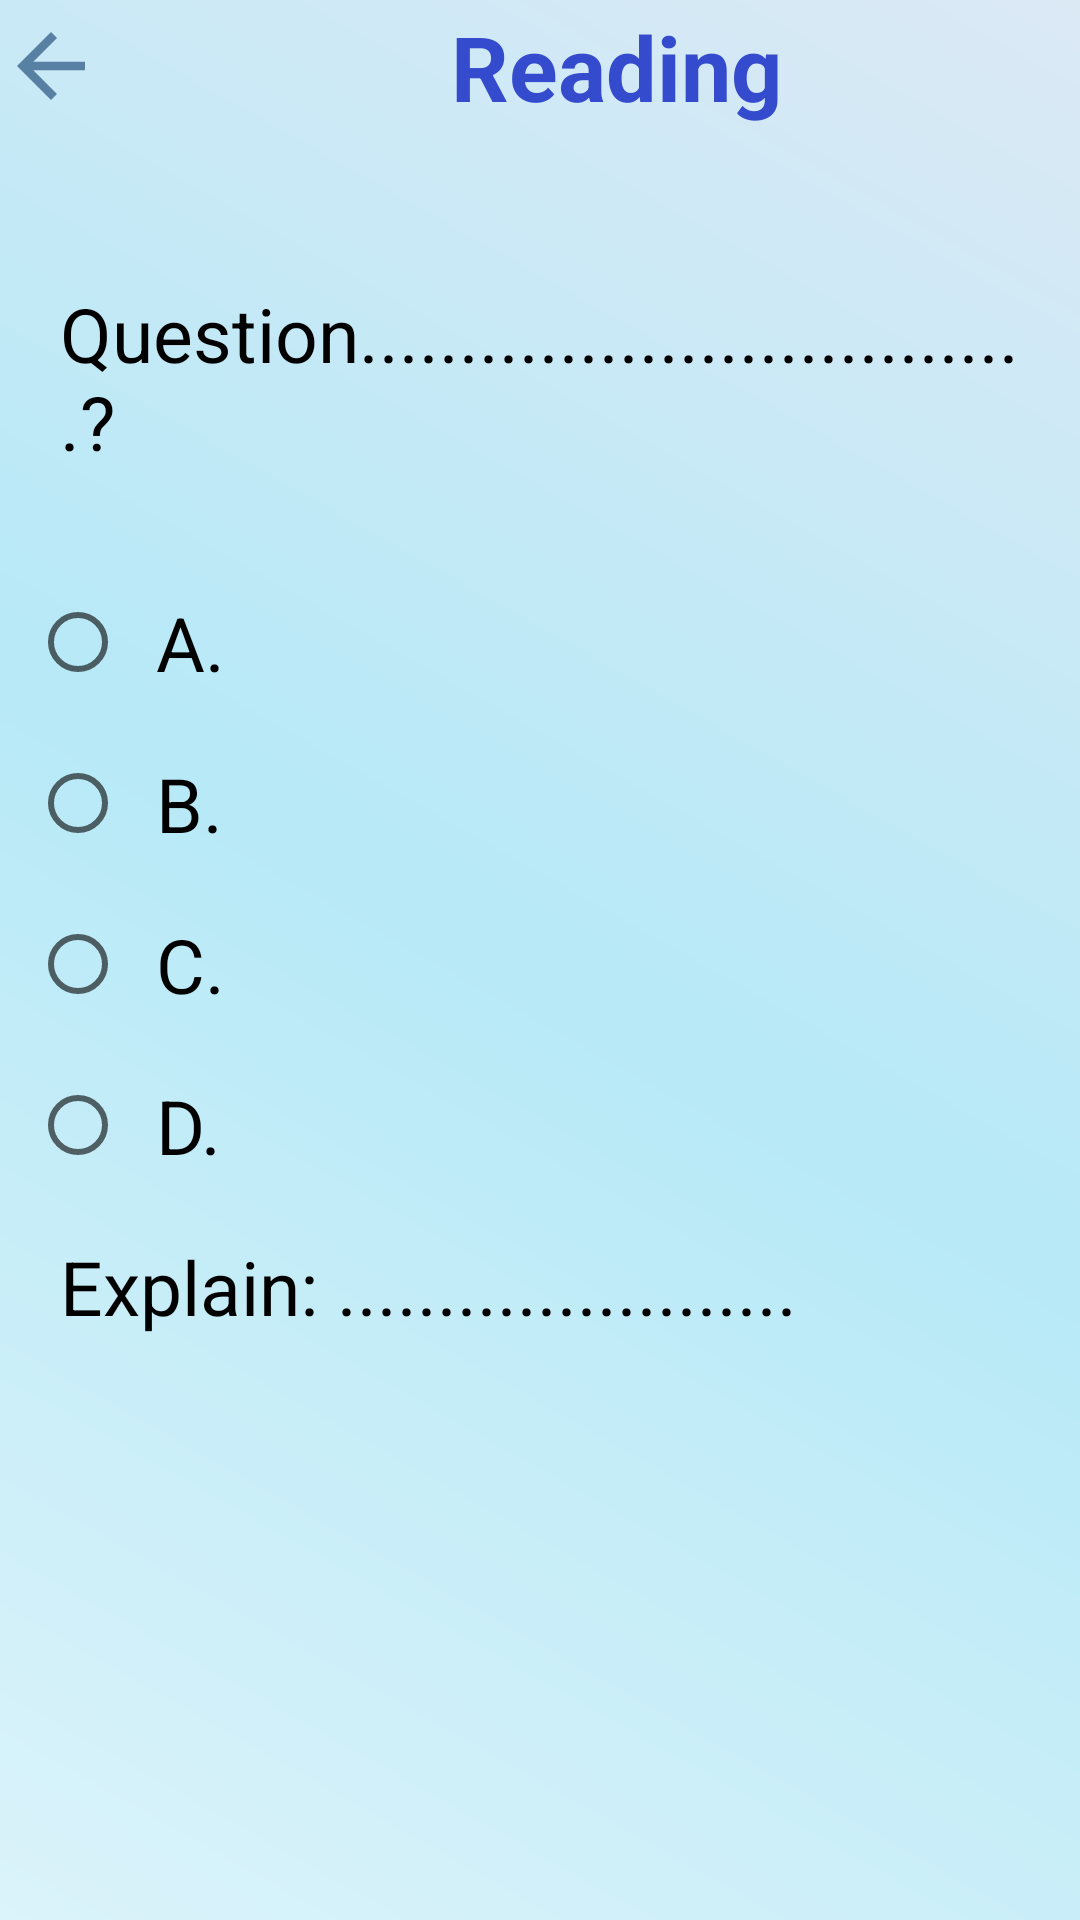

Named icons in this screenshot (1080 × 1920) and their bounding boxes, box(x1, y1, x2, y2):
back: box(17, 32, 85, 100)
